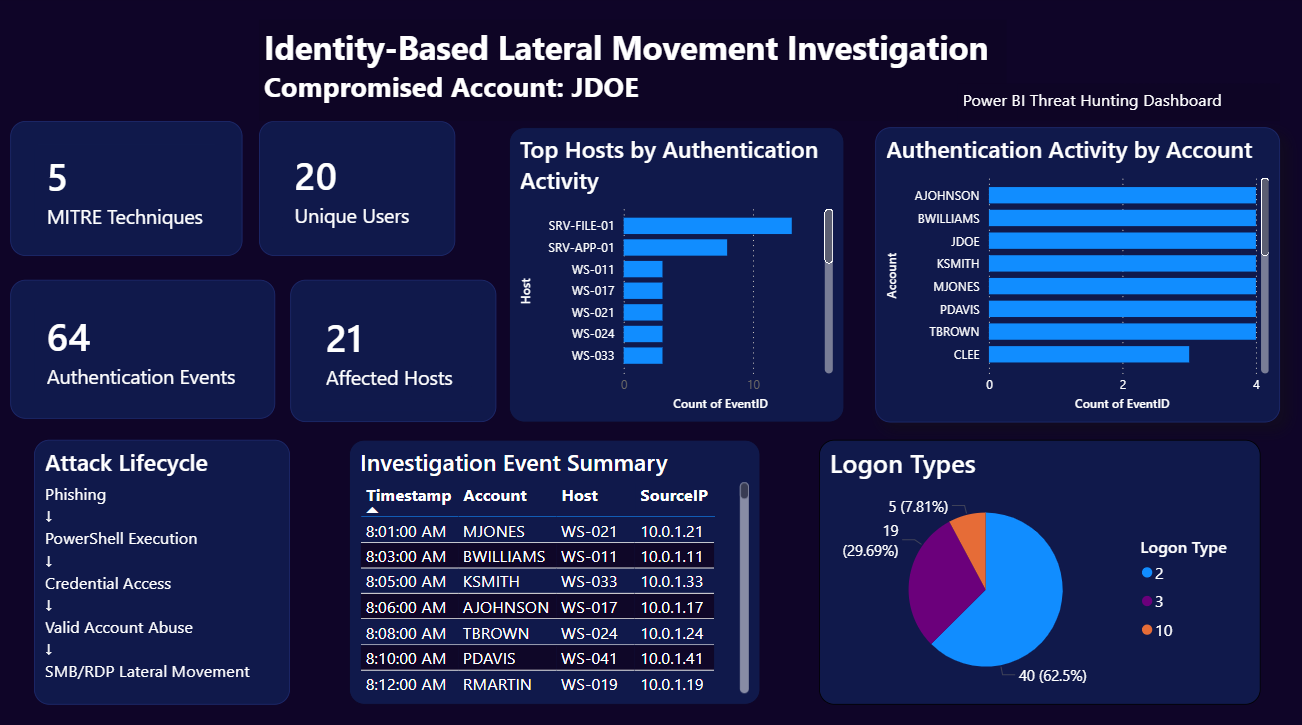

What the dashboard file says about the page in this screenshot:
{"tool":"powerbi","page":{"name":"Executive Overview","canvas":[1280,720],"ordinal":0},"visuals":[{"type":"cardVisual","fields":{"Data":["AuthenticationLogs.Total Authentications"]},"box":[11,277.6,259.2,135.7],"z":0},{"type":"cardVisual","fields":{"Data":["AuthenticationLogs.Affected Hosts"]},"box":[284.9,277.6,201.8,139.4],"z":1000},{"type":"cardVisual","fields":{"Data":["AuthenticationLogs.Unique Users"]},"box":[254.3,122.3,192,132.1],"z":2000},{"type":"cardVisual","fields":{"Data":["AuthenticationLogs.MITRE Techniques"]},"box":[11,122.3,227.4,132.1],"z":3000},{"type":"pieChart","title":"Logon Types","fields":{"Y":["CountNonNull(AuthenticationLogs.LogonType)"],"Category":["AuthenticationLogs.LogonType"]},"box":[802.2,434.1,431.7,259.2],"z":4000},{"type":"clusteredBarChart","title":"Authentication Activity by Account","fields":{"Y":["CountNonNull(AuthenticationLogs.EventID)"],"Category":["AuthenticationLogs.Account"]},"box":[857.2,128.4,396.2,288.6],"z":5000},{"type":"textbox","box":[254.3,23.2,731.3,99],"z":6000},{"type":"textbox","box":[937.9,85.6,315.5,36.7],"z":7000},{"type":"clusteredBarChart","title":"Top Hosts by Authentication Activity","fields":{"Category":["AuthenticationLogs.Host"],"Y":["CountNonNull(AuthenticationLogs.EventID)"]},"box":[498.9,128.4,327.7,288.6],"z":8000},{"type":"tableEx","title":"Investigation Event Summary","fields":{"Values":["AuthenticationLogs.Timestamp","AuthenticationLogs.Account","AuthenticationLogs.Host","AuthenticationLogs.SourceIP"]},"box":[342.4,434.1,402.3,259.2],"z":9000},{"type":"textbox","title":"Attack Lifecycle","box":[34.2,434.1,250.7,259.2],"z":10000}]}

Visuals, with their boxes in screenshot pixels (x1, y1, x2, y2), scaled from the page's 1280x720 canvas onto the 1302x725 screenshot:
cardVisual - AuthenticationLogs.Total Authentications: [x1=11, y1=280, x2=275, y2=416]
cardVisual - AuthenticationLogs.Affected Hosts: [x1=290, y1=280, x2=495, y2=420]
cardVisual - AuthenticationLogs.Unique Users: [x1=259, y1=123, x2=454, y2=256]
cardVisual - AuthenticationLogs.MITRE Techniques: [x1=11, y1=123, x2=242, y2=256]
"Logon Types" pieChart: [x1=816, y1=437, x2=1255, y2=698]
"Authentication Activity by Account" clusteredBarChart: [x1=872, y1=129, x2=1275, y2=420]
textbox: [x1=259, y1=23, x2=1003, y2=123]
textbox: [x1=954, y1=86, x2=1275, y2=123]
"Top Hosts by Authentication Activity" clusteredBarChart: [x1=507, y1=129, x2=841, y2=420]
"Investigation Event Summary" tableEx: [x1=348, y1=437, x2=757, y2=698]
"Attack Lifecycle" textbox: [x1=35, y1=437, x2=290, y2=698]
